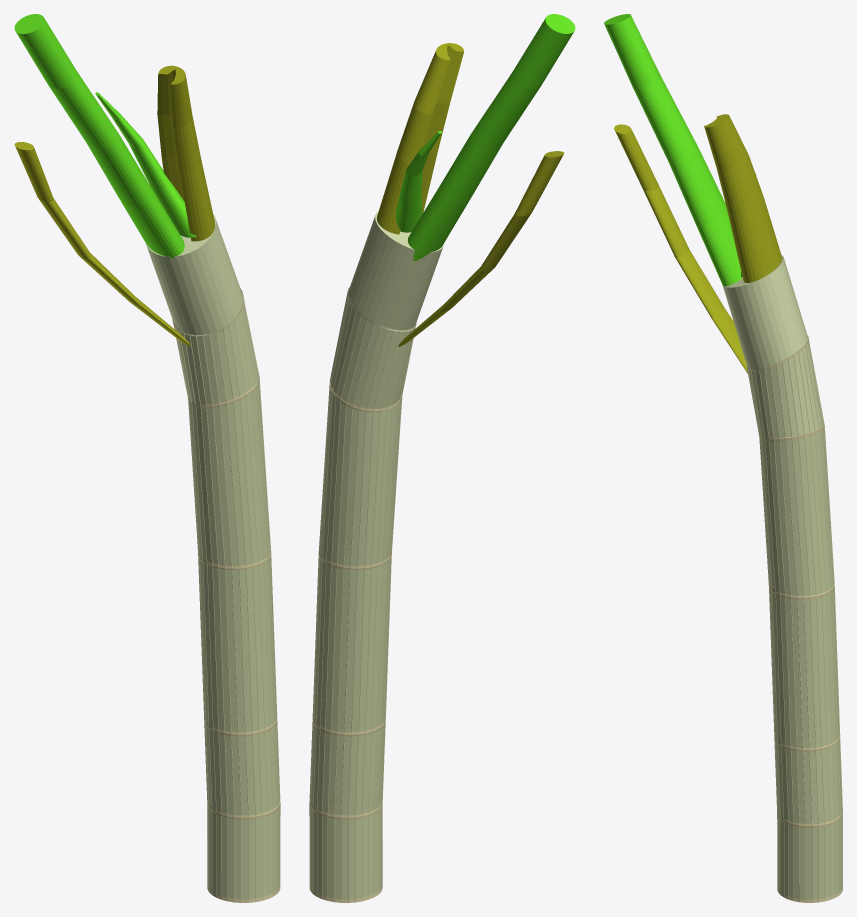
File: GreenOnion.fbx
3 views of the same model, side by side, from view 1: azimuth 30°, elevation 25°; view 2: azimuth 150°, elevation 25°; view 3: azimuth 330°, elevation 25° (orthographic). The views are drawn at different scales.
Visible parts, largest first — view 1: Cylinder, Cylinder.005, Cylinder.003, Cylinder.002, Cylinder.001, Cylinder.004; view 2: Cylinder, Cylinder.005, Cylinder.003, Cylinder.002, Cylinder.001, Cylinder.004; view 3: Cylinder, Cylinder.005, Cylinder.003, Cylinder.002, Cylinder.001.
Boxes of the visible parts, x1,y1,x2,y2 form: Cylinder: (145,214,280,899); Cylinder.005: (172,288,280,902); Cylinder.003: (14,14,184,257); Cylinder.002: (157,65,215,241); Cylinder.001: (14,142,190,346); Cylinder.004: (95,92,196,237); Cylinder: (309,211,443,899); Cylinder.005: (309,287,416,902); Cylinder.003: (408,14,575,260); Cylinder.002: (377,43,464,234); Cylinder.001: (398,151,564,346); Cylinder.004: (396,131,441,232); Cylinder: (723,255,842,899); Cylinder.005: (746,336,842,902); Cylinder.003: (604,14,742,286); Cylinder.002: (704,114,782,282); Cylinder.001: (614,124,747,373).
Size of the model in its own units: 656 by 2228 by 239.
